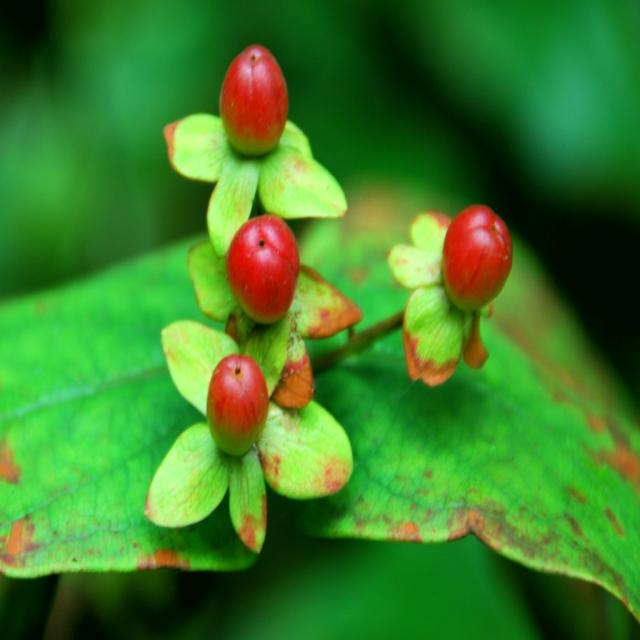Healty Apple: (212, 43, 292, 156)
